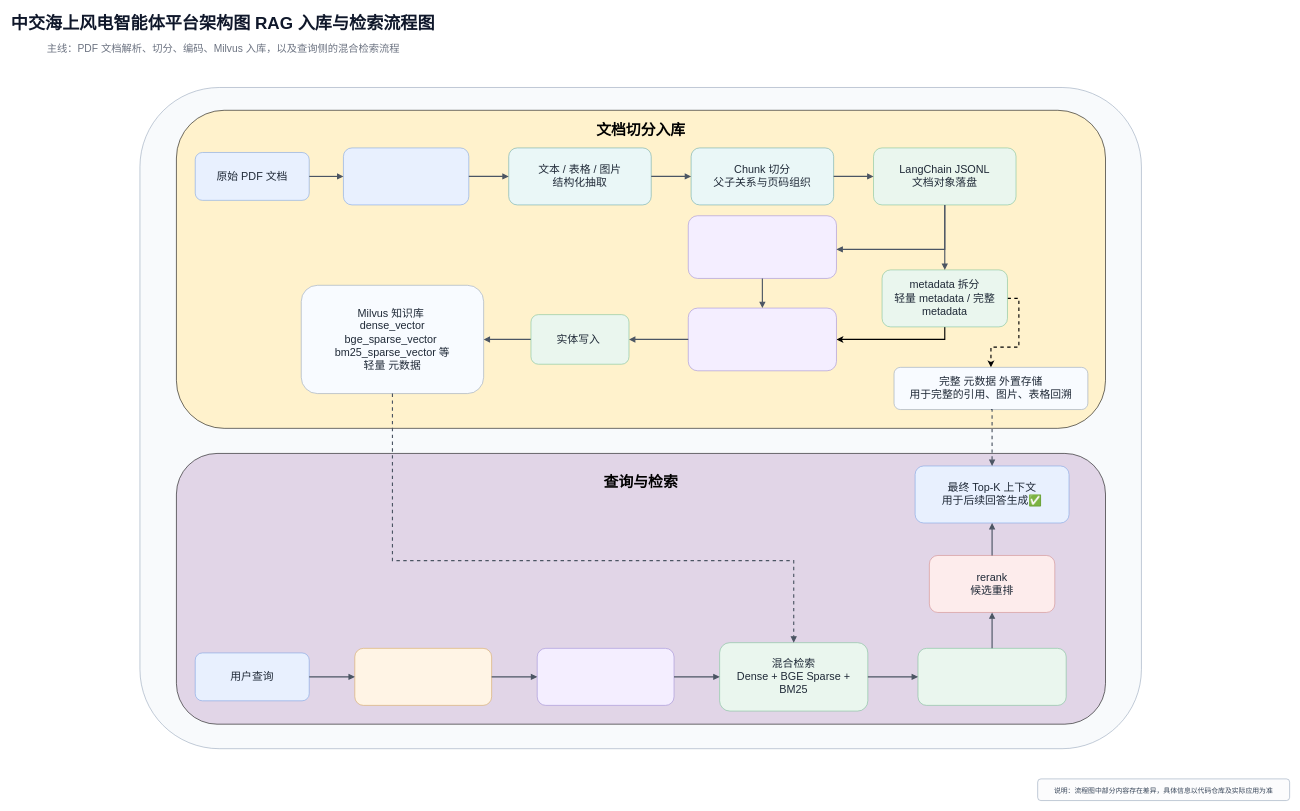
Some shapes in this 1300 by 811 pixel diagram are drawn without their labels. Here are the shapes that lost their labels. From the top down, the centre of each, then its label:
the point at 406,176: MinerU 解析
the point at 762,246: BGE-M3 编码 生成 dense + sparse 表征
the point at 762,339: Milvus BM25 Fuction生成BM25 sparse
the point at 423,676: 查询增强 rewrite / 领域扩展
the point at 605,676: 查询编码 生成 dense / sparse 查询表示
the point at 991,676: RRF 融合 / 去重 文档聚合
